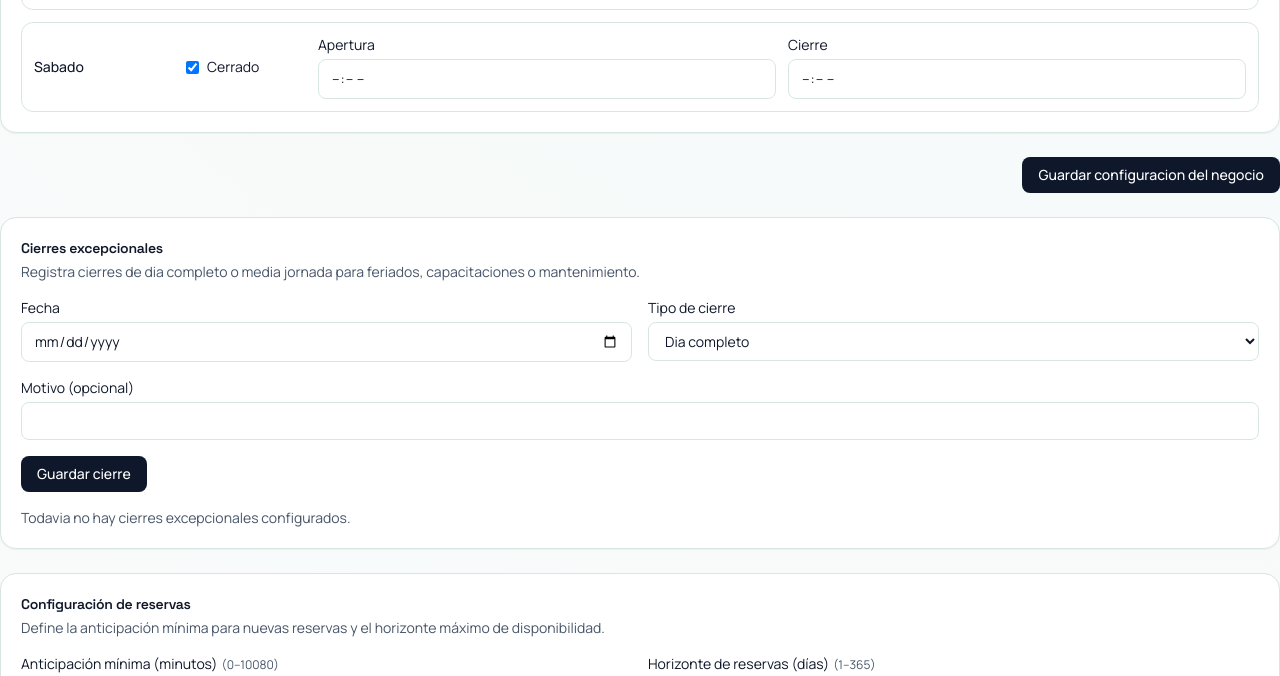
Test: BusinessSettingsPage › creates a half-day closure and reloads data
The width and height of the screenshot is (1280, 676).
(page scrolled)
expect the heading "Cierres excepcionales" is shown: met, box top-left (21, 239), bottom-right (163, 257)
Type "2026-05-20" into the date field labelled "Fecha" at point(326, 342), box top-left (21, 322), bottom-right (632, 362)
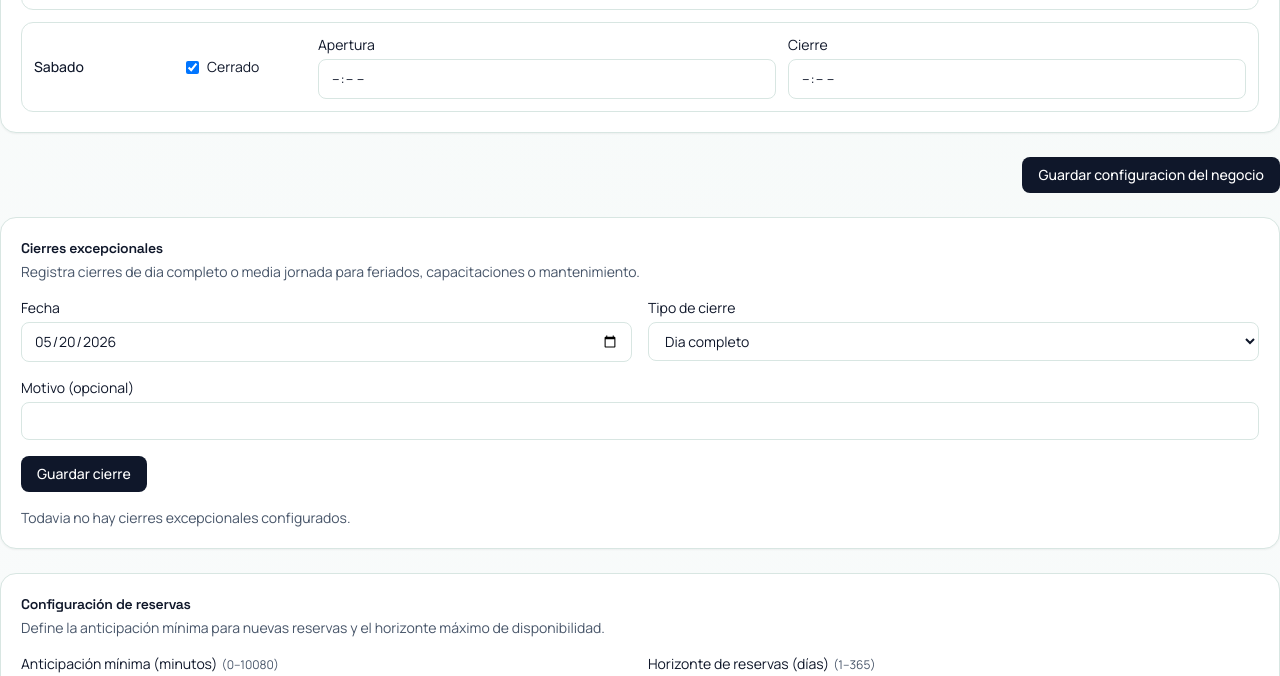
Select "Media jornada" in the dropdown labelled "Tipo de cierre" at point(954, 342), box top-left (648, 322), bottom-right (1259, 361)
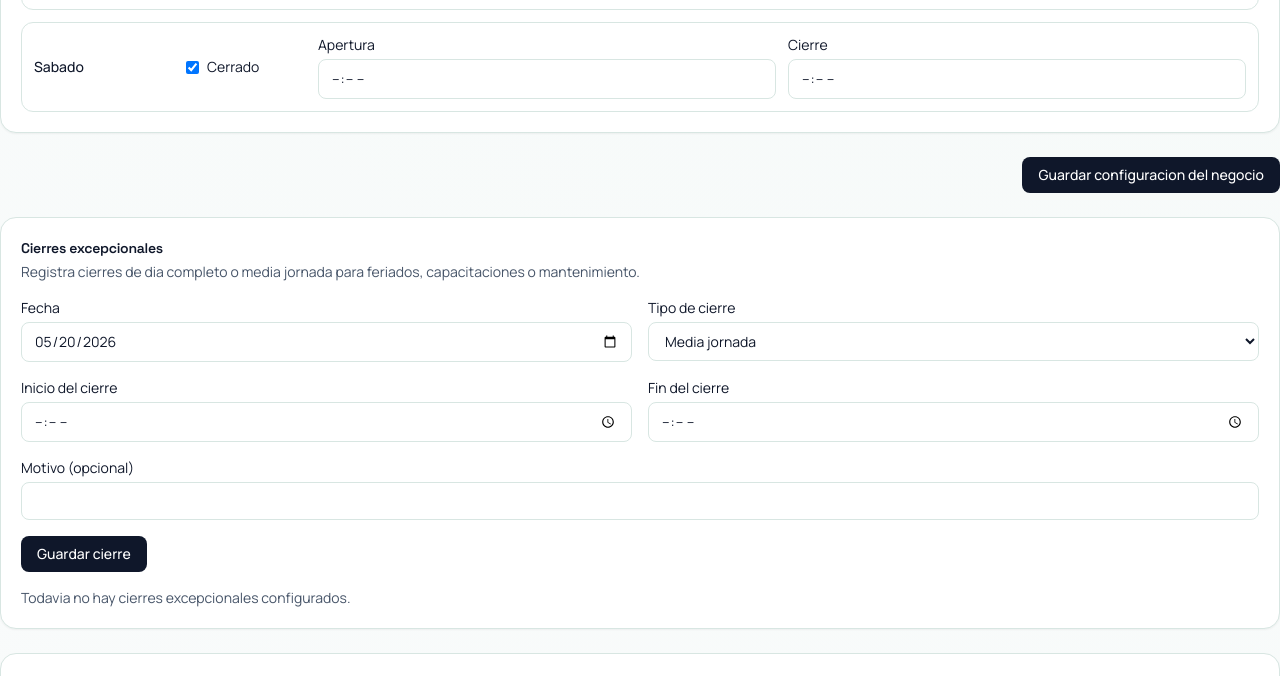
Type "13:00" into the time field labelled "Inicio del cierre" at point(326, 422), box top-left (21, 402), bottom-right (632, 442)
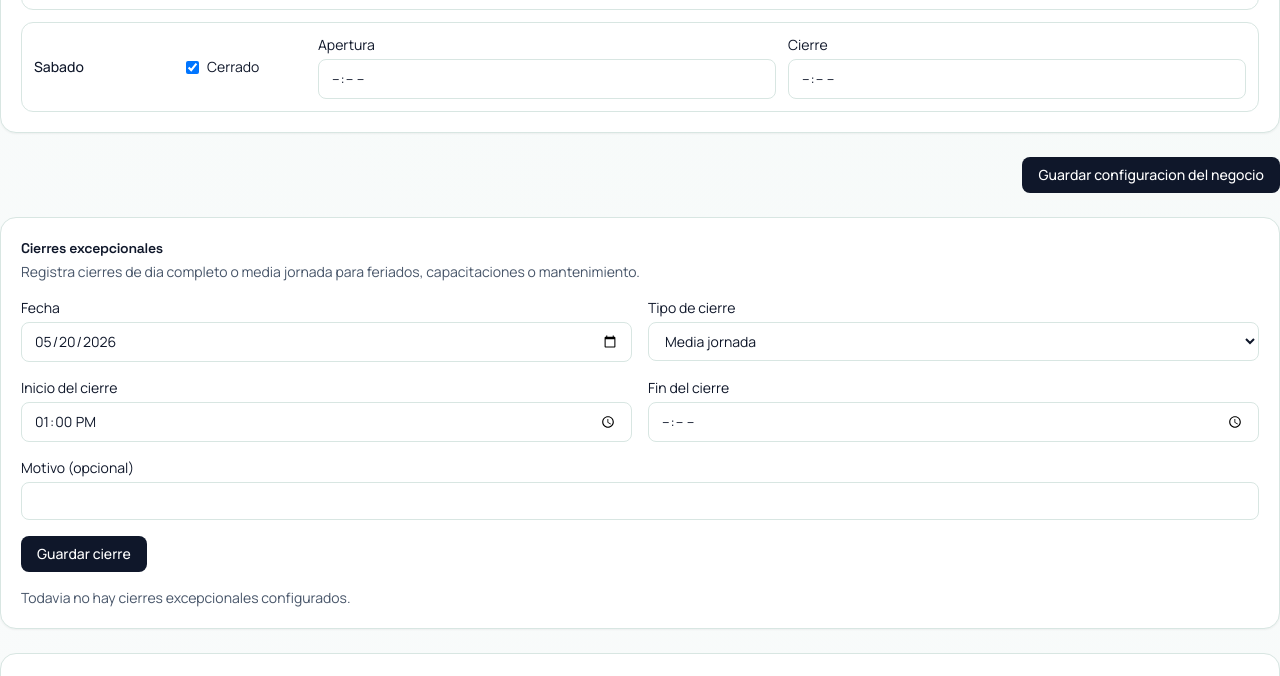
Type "17:00" into the time field labelled "Fin del cierre" at point(954, 422), box top-left (648, 402), bottom-right (1259, 442)
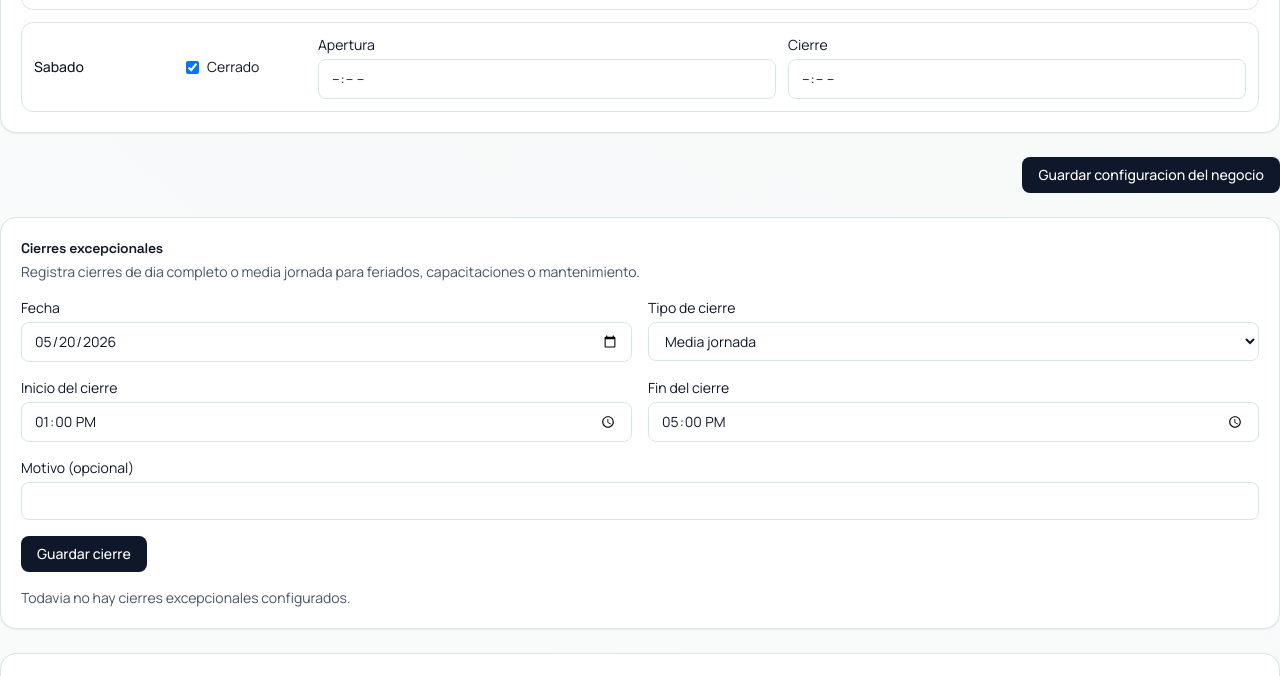
Type "Capacitacion" into the field labelled "Motivo (opcional)" at point(640, 501), box top-left (21, 482), bottom-right (1259, 520)
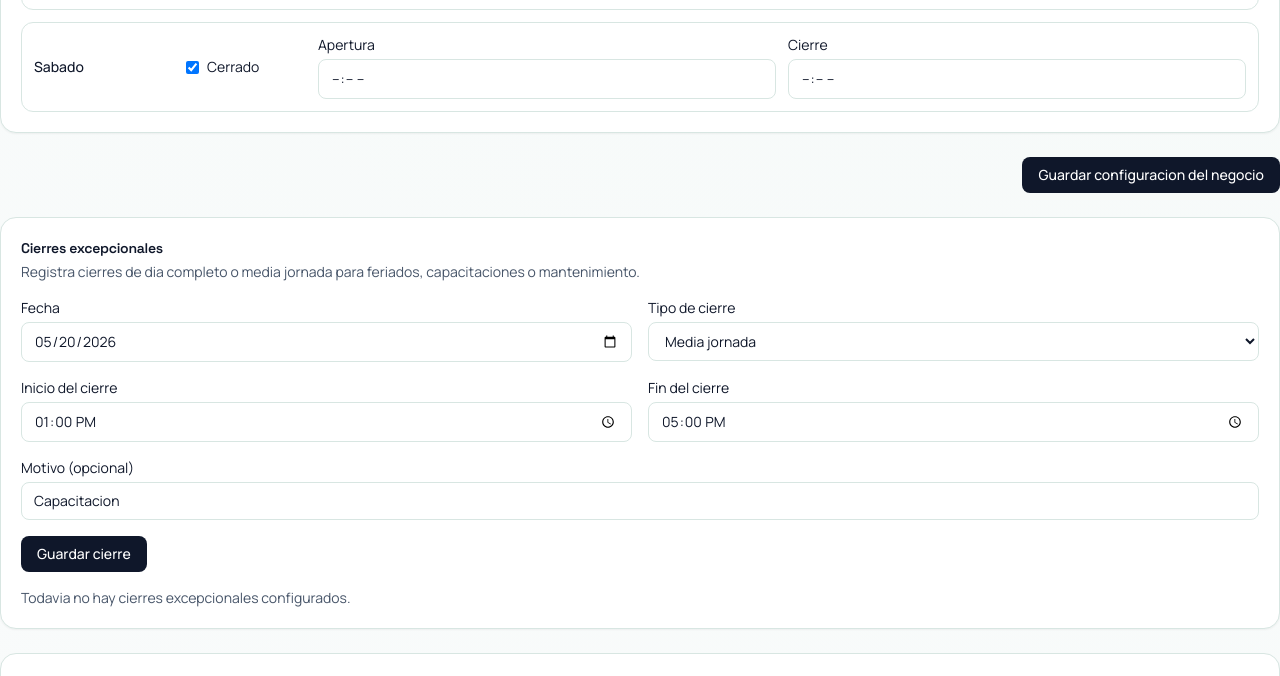
Click the button "Guardar cierre" at point(84, 554), box top-left (21, 536), bottom-right (147, 572)
(page scrolled)
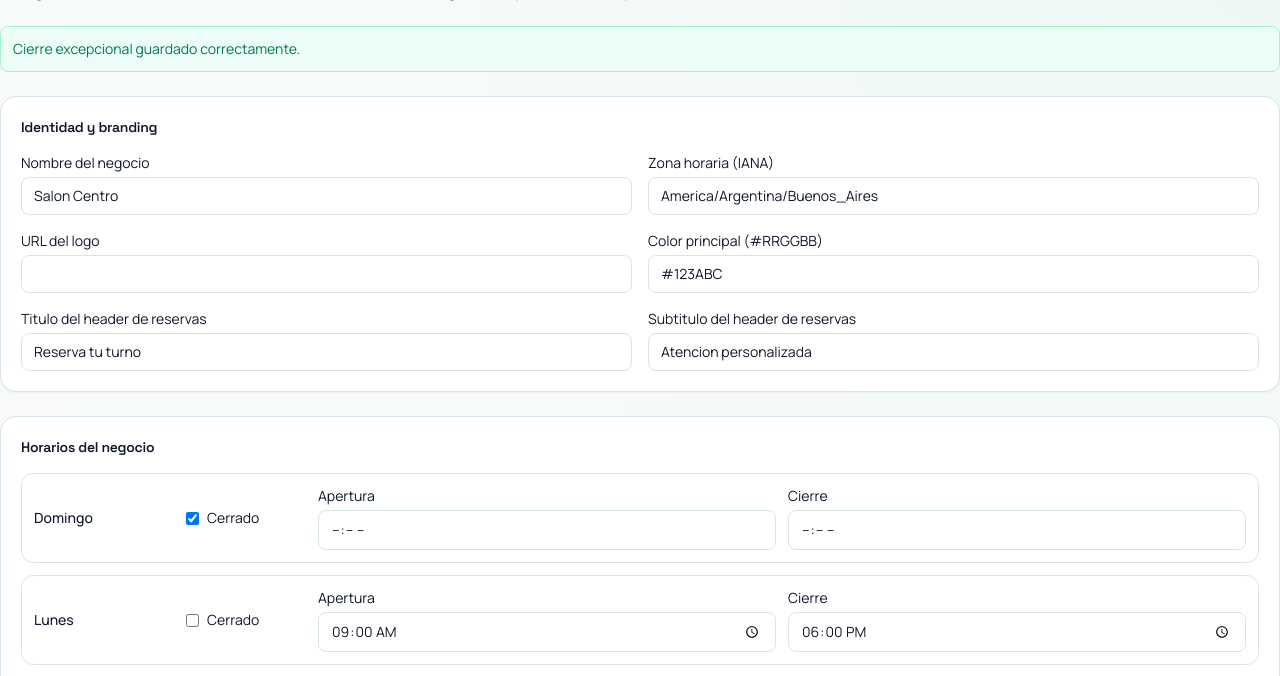
expect the text "Cierre excepcional guardado correctamente." is shown: met, box top-left (0, 26), bottom-right (1279, 72)
